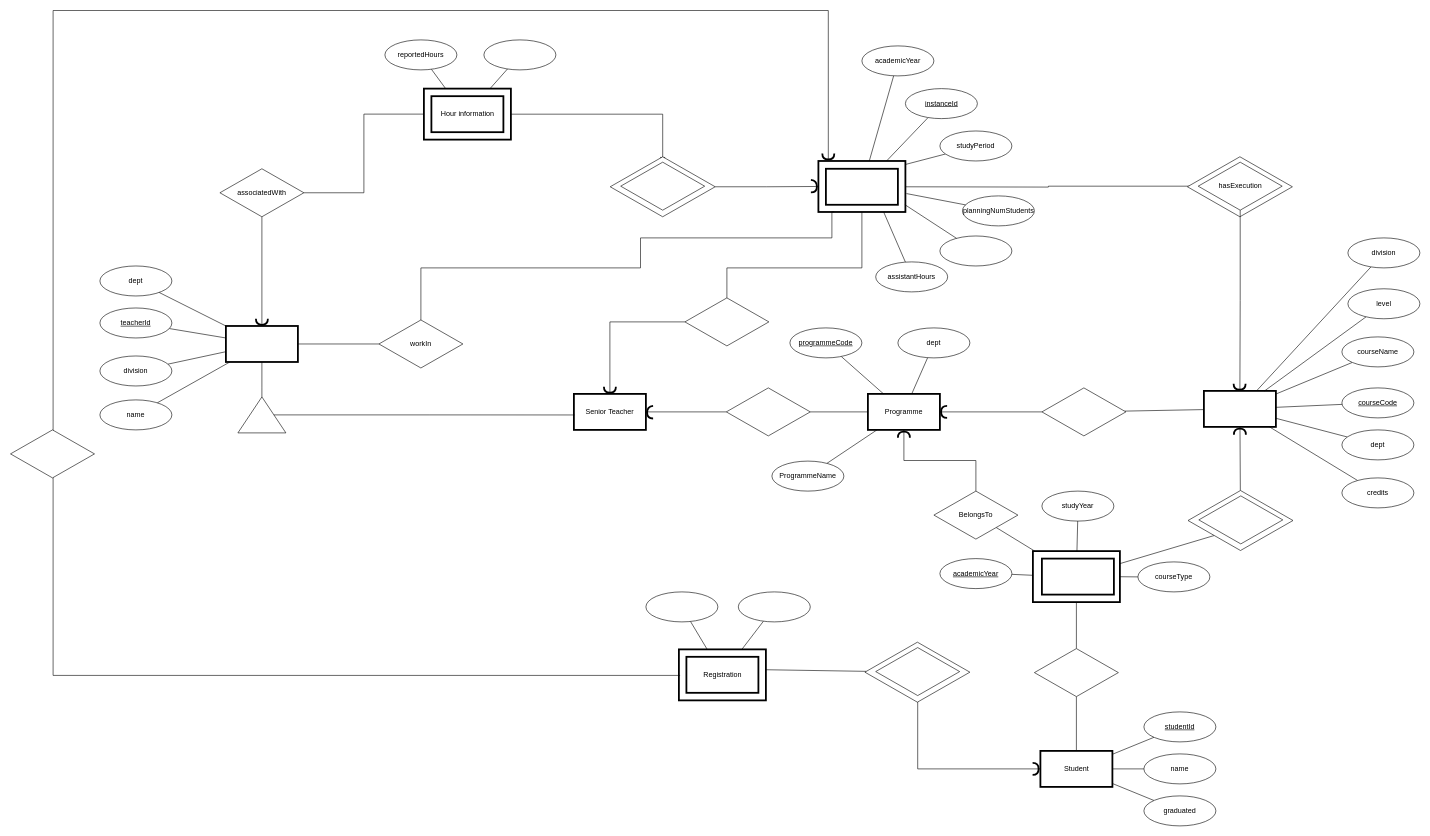
This 1430x836 diagram has some shape labels left out. The box of each missing label's shape, as (x1, y1, x2, y2) in pixels:
assignedHours: (483, 39, 556, 70)
Course: (1203, 390, 1276, 428)
Course Instance: (825, 168, 898, 205)
enrollsIn: (1034, 648, 1118, 697)
examines: (684, 297, 769, 346)
given: (620, 162, 705, 210)
grade: (645, 591, 718, 622)
hasRegistration: (10, 429, 94, 478)
IncludedIn: (1198, 495, 1283, 544)
ISA: (237, 396, 286, 433)
oversees: (726, 387, 810, 436)
owns: (1041, 387, 1126, 436)
Programme Course: (1041, 557, 1114, 595)
register: (875, 647, 960, 696)
seniorHours: (939, 235, 1012, 266)
status: (738, 591, 810, 622)
Teacher: (225, 325, 298, 363)
